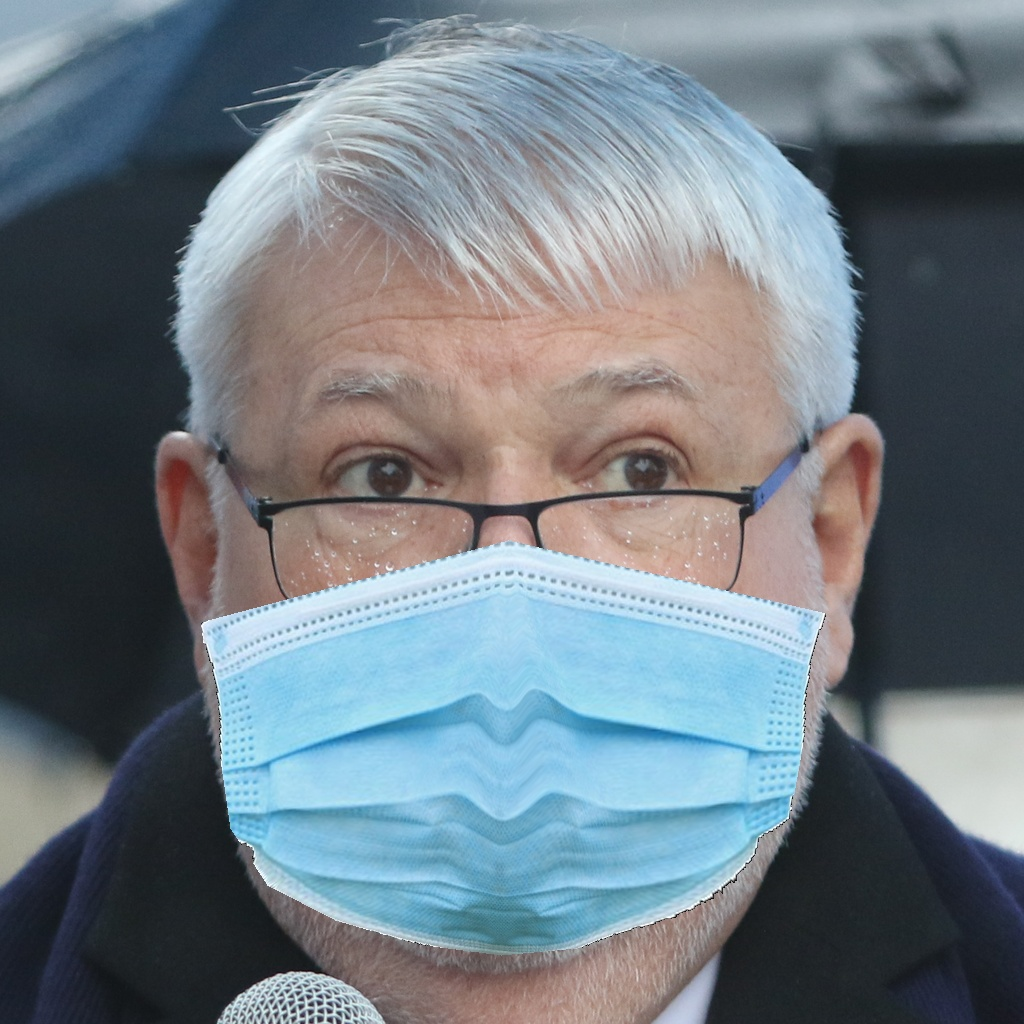Mask: (197, 332, 830, 956)
